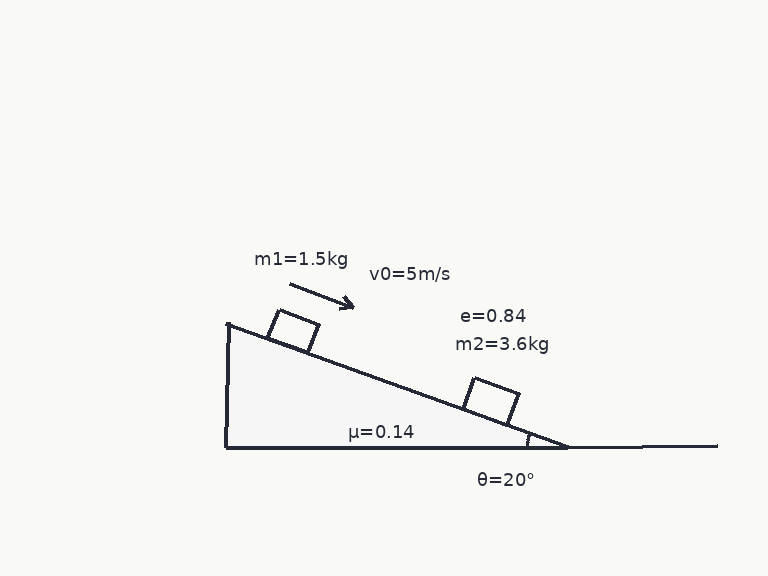block: (461, 375, 520, 427), (266, 307, 320, 354)
ramp: (224, 321, 569, 449)
